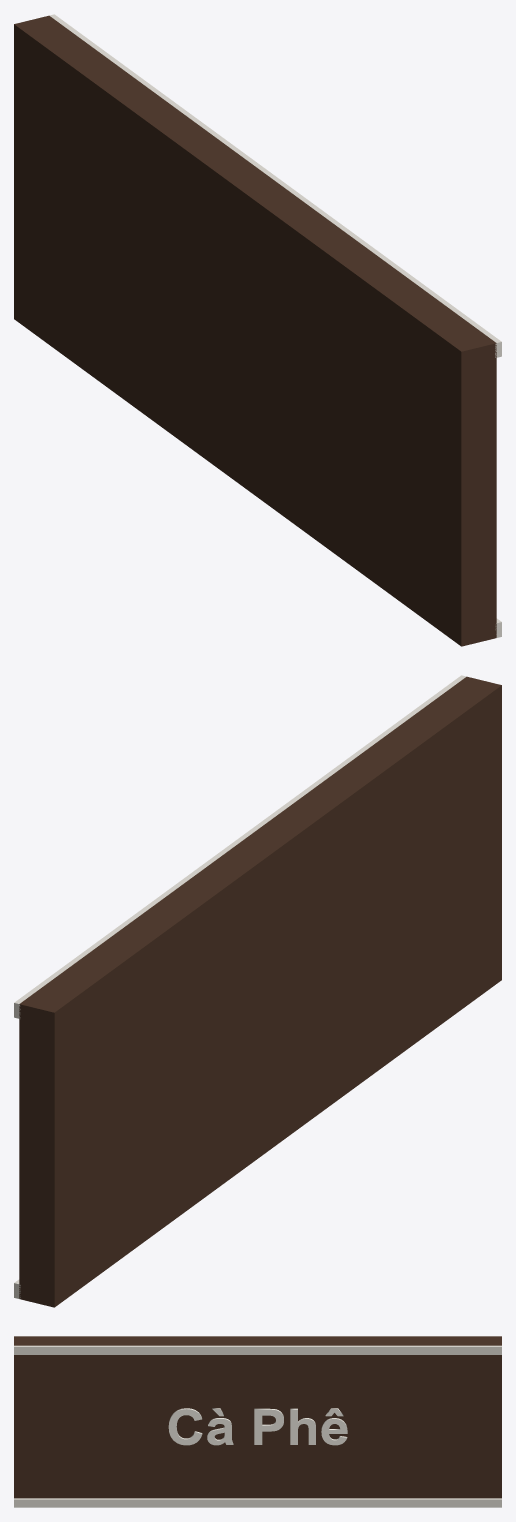
The model's file is OW_Mau_Bang_5_0_3.fbx.
3 renders of one model, top to bottom at view 1: azimuth 30°, elevation 25°; view 2: azimuth 150°, elevation 25°; view 3: azimuth 270°, elevation 25°, orthographic. The views are drawn at different scales.
Parts seen in each view (by area): view 1: OW_Bang_Cà Phê.001; view 2: OW_Bang_Cà Phê.001; view 3: OW_Bang_Cà Phê.001, Chữ • Cà Phê.001_Mesh.
Boxes of the visible parts, x1,y1,x2,y2 form: OW_Bang_Cà Phê.001: (14,14,501,646); OW_Bang_Cà Phê.001: (14,675,501,1307); OW_Bang_Cà Phê.001: (14,1336,501,1507); Chữ • Cà Phê.001_Mesh: (168,1408,347,1445).
Size of the model in its own units: 0.24 by 1.6 by 4.4.
